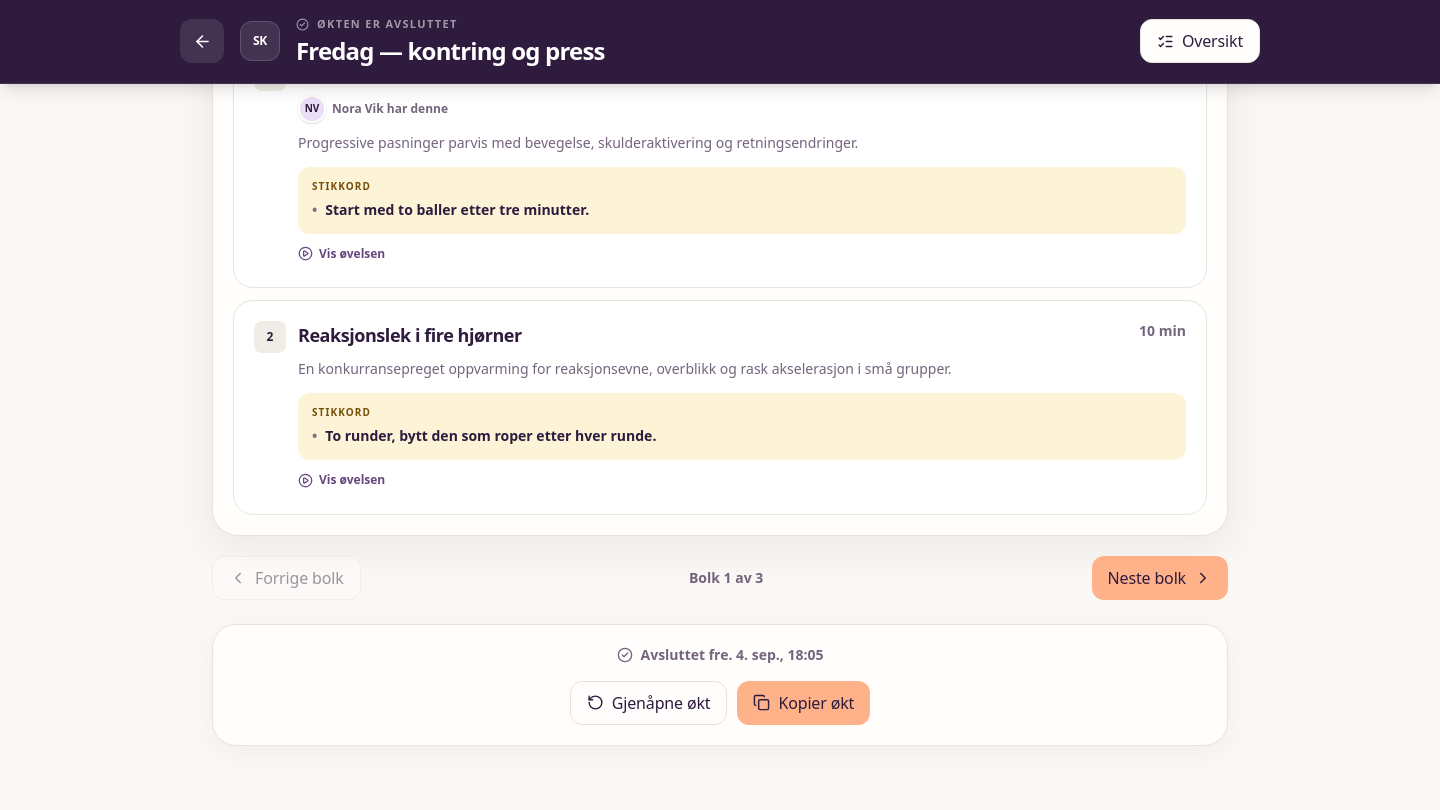
it: a finished workout › copies the plan into a dated draft and opens it
This screenshot has width=1440, height=810.
Later steps or results of the test are not shown.
(page scrolled)
Click the button "Kopier økt".
click(804, 702)  # box x1=738 y1=680 x2=870 y2=724
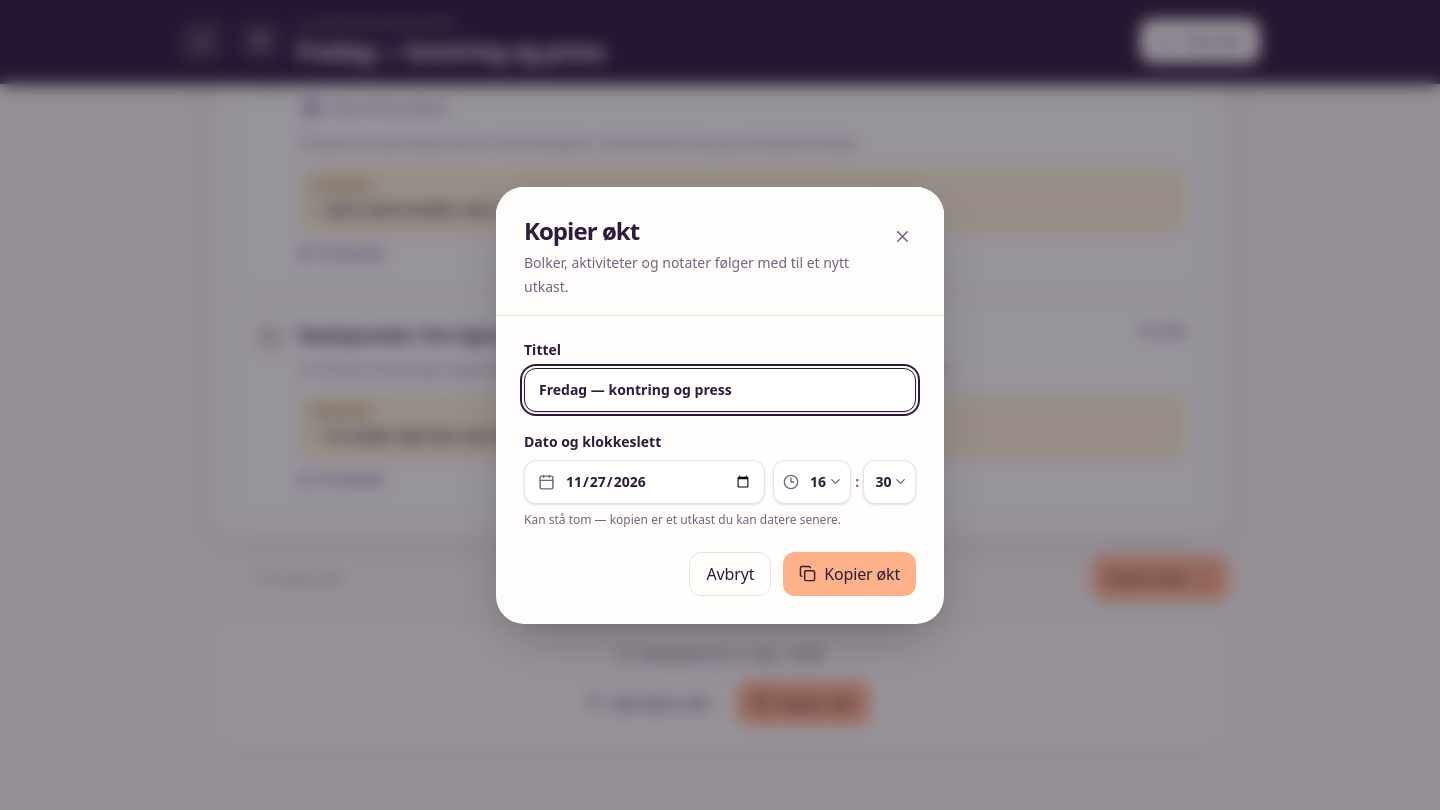
Result: the field labelled "Tittel" holds "Fredag — kontring og press" at x1=524 y1=368 x2=916 y2=412
Result: the date field labelled "Dato" is not empty at x1=524 y1=460 x2=765 y2=504
